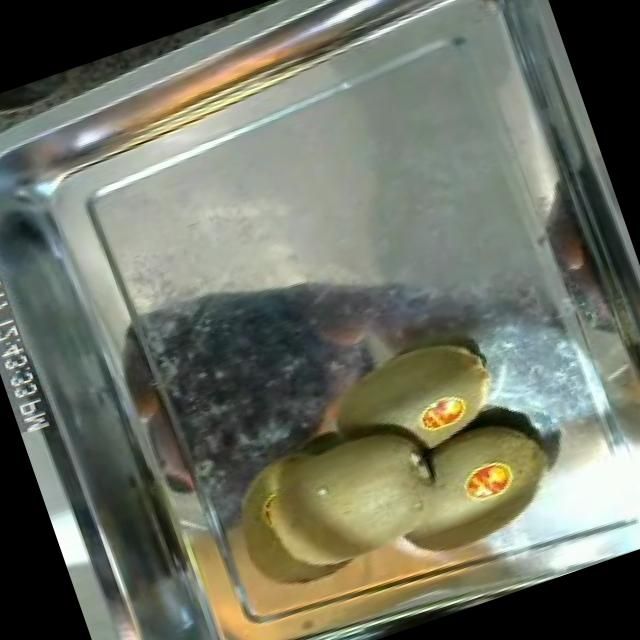Fruit: (224, 388, 473, 612), (285, 311, 519, 492)
